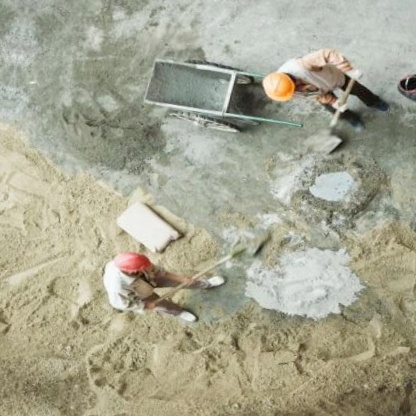red: (107, 243, 156, 278)
yellow: (255, 66, 300, 107)
